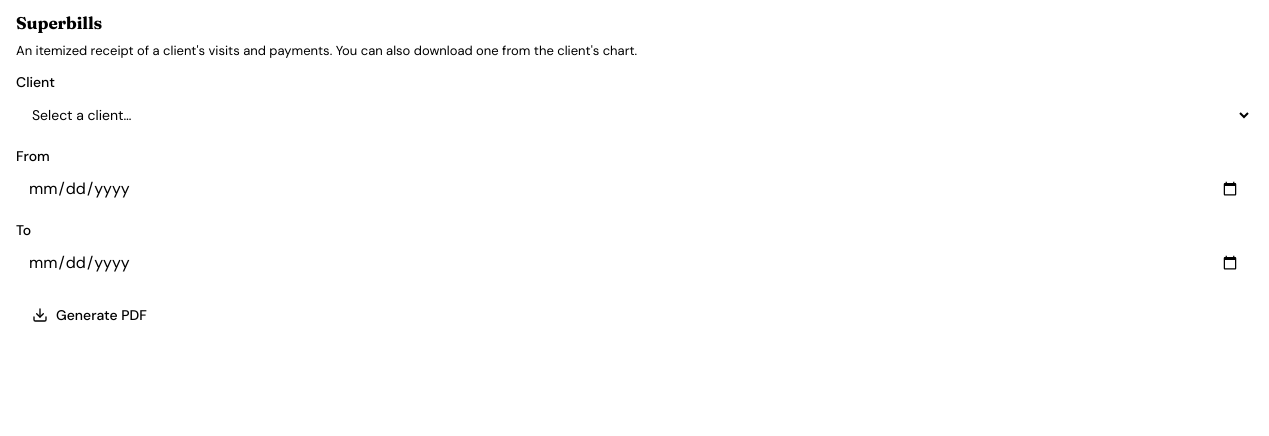
Scenario: SuperbillsPage › shows an ordinary failure as such, not as a refusal
The width and height of the screenshot is (1269, 436).
Select "Anon, John" in the dropdown labelled "Client" at (634, 115), box x1=16 y1=97 x2=1252 y2=133
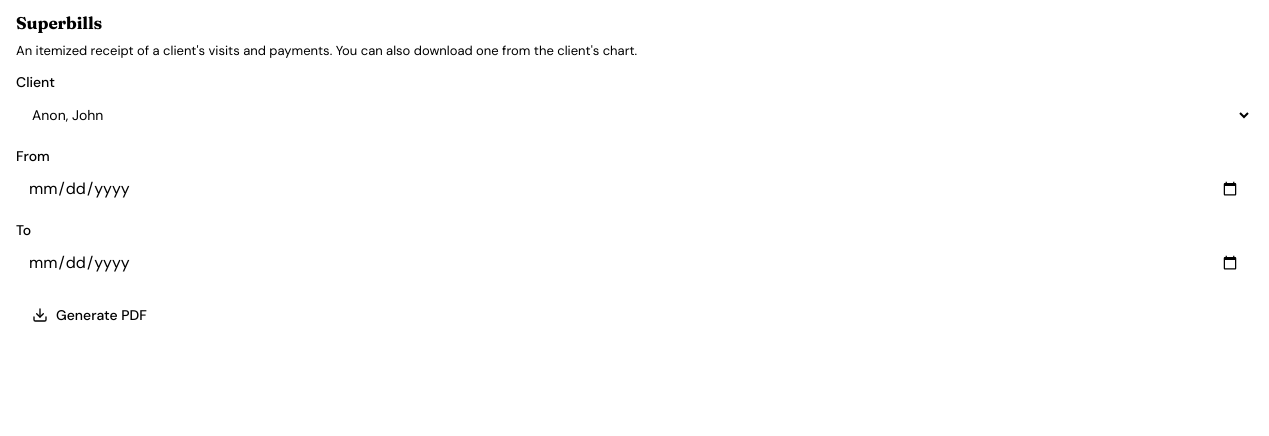
Type "2026-09-01" into the date field labelled "From".
click(634, 189); type("2026-09-01")  # box x1=16 y1=171 x2=1252 y2=207
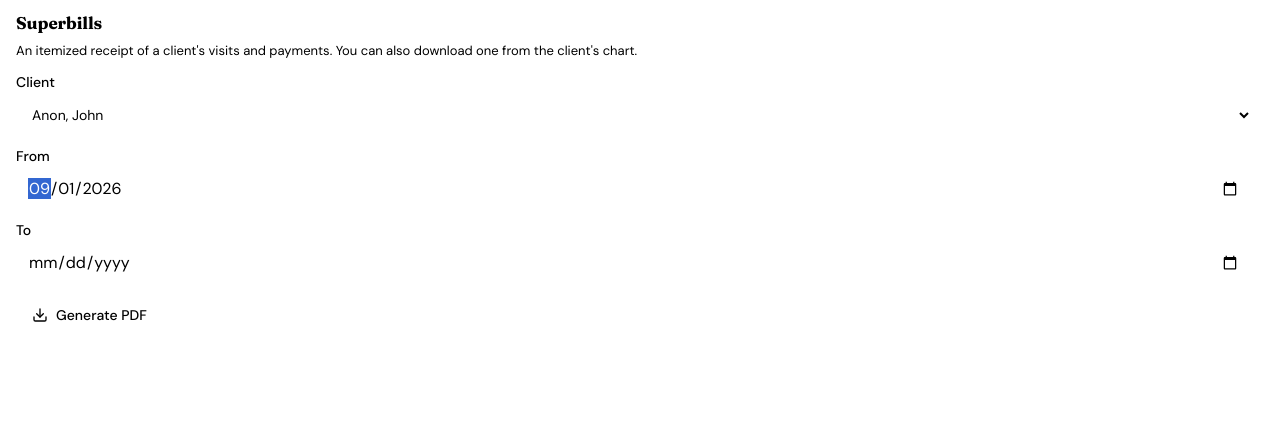
Type "2026-09-30" into the date field labelled "To".
click(634, 263); type("2026-09-30")  # box x1=16 y1=245 x2=1252 y2=281
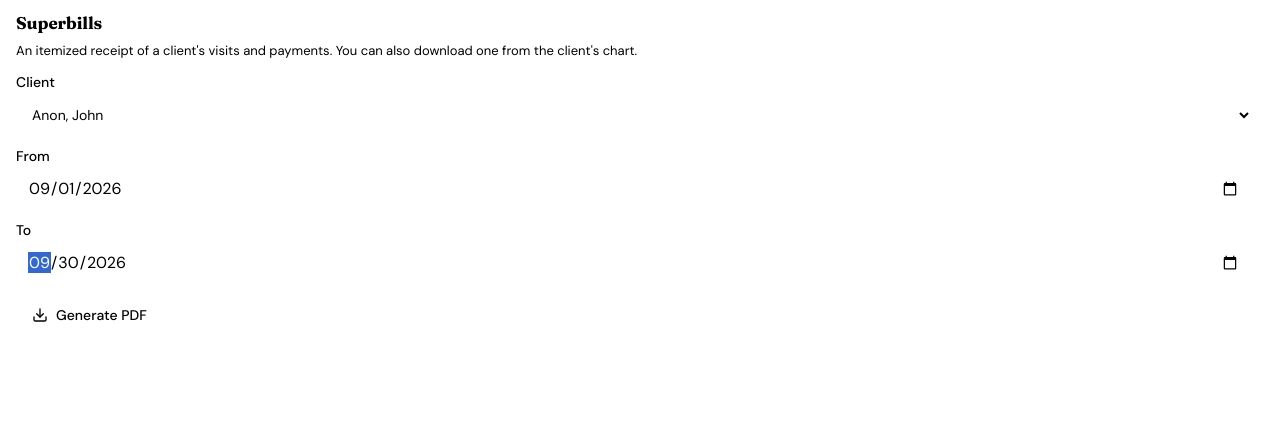
Click the button "Generate PDF".
click(89, 315)  # box x1=16 y1=297 x2=163 y2=333
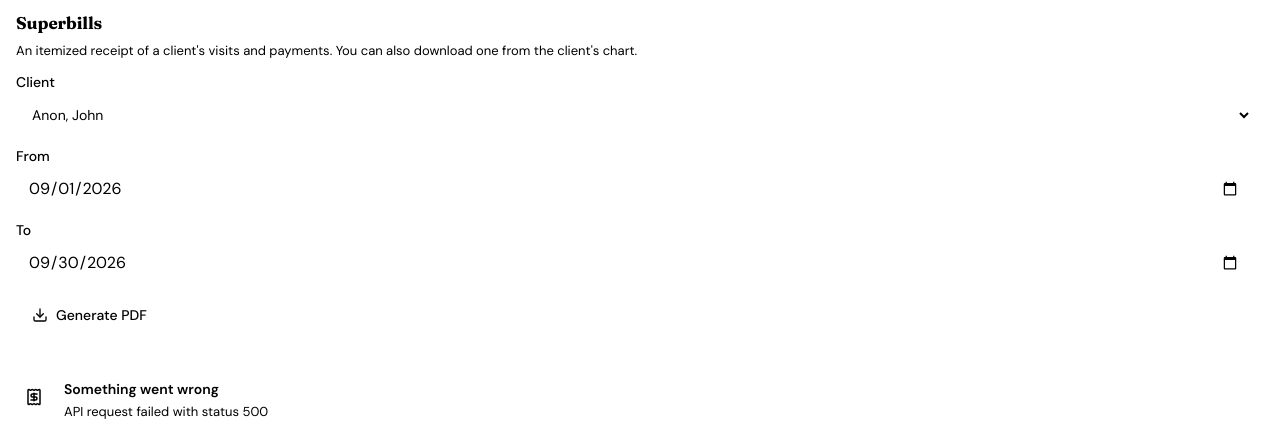
Result: the text "Something went wrong" is shown at x1=64 y1=380 x2=219 y2=398
Result: the text "API request failed with status 500" is shown at x1=64 y1=403 x2=268 y2=420
